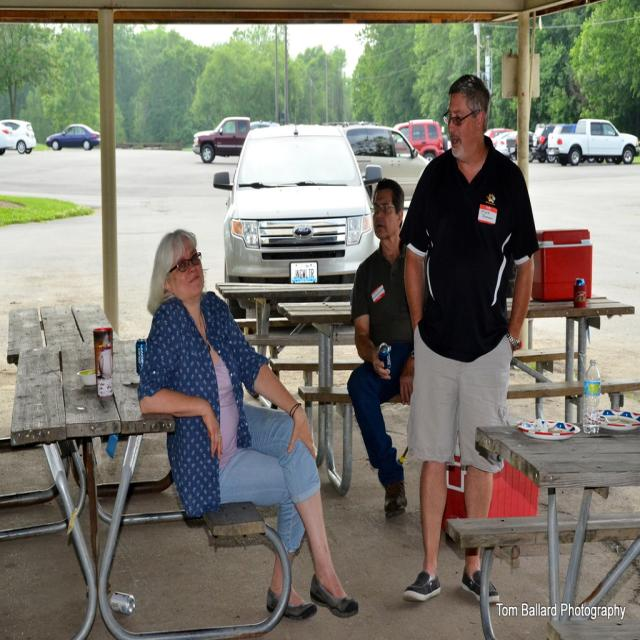car: (44, 121, 99, 150)
